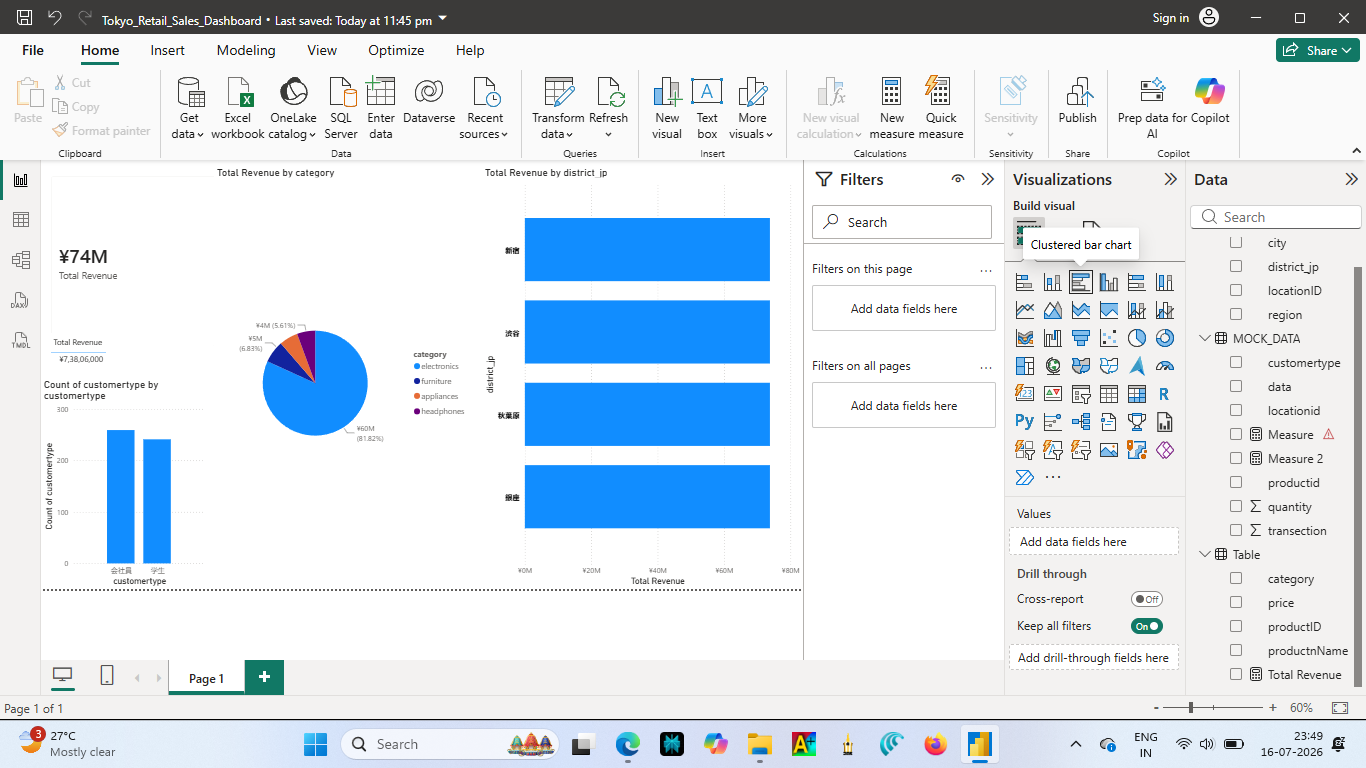

What the dashboard file says about the page in this screenshot:
{"tool":"powerbi","page":{"name":"Page 1","canvas":[1280,720],"ordinal":0},"visuals":[{"type":"cardVisual","fields":{"Data":["Table.Total Revenue"]},"box":[0,10.1,381.3,319.2],"z":0},{"type":"tableEx","fields":{"Values":["Table.Total Revenue"]},"box":[10,290,280,280],"z":1},{"type":"pieChart","fields":{"Y":["Table.Total Revenue"],"Category":["Table.category"]},"box":[280.5,0,438.4,720.6],"z":2},{"type":"barChart","fields":{"Category":["location.district_jp"],"Y":["Table.Total Revenue"]},"box":[740.8,10.1,539.2,710.6],"z":3},{"type":"lineStackedColumnComboChart","fields":{"Y":["CountNonNull(MOCK_DATA.customertype)"],"Category":["MOCK_DATA.customertype"]},"box":[0,366.2,280.5,354.4],"z":4}]}

Visuals, with their boxes on the page's 1280x720 design canvas (x1, y1, x2, y2). These are canvas units, not pixel positions in the 1366x768 screenshot, which may show the page scaled, cropped or inside an application window:
cardVisual - Table.Total Revenue: {"x1": 0, "y1": 10, "x2": 381, "y2": 329}
tableEx - Table.Total Revenue: {"x1": 10, "y1": 290, "x2": 290, "y2": 570}
pieChart - Table.Total Revenue x Table.category: {"x1": 280, "y1": 0, "x2": 719, "y2": 721}
barChart - location.district_jp x Table.Total Revenue: {"x1": 741, "y1": 10, "x2": 1280, "y2": 721}
lineStackedColumnComboChart - CountNonNull(MOCK_DATA.customertype) x MOCK_DATA.customertype: {"x1": 0, "y1": 366, "x2": 280, "y2": 721}
